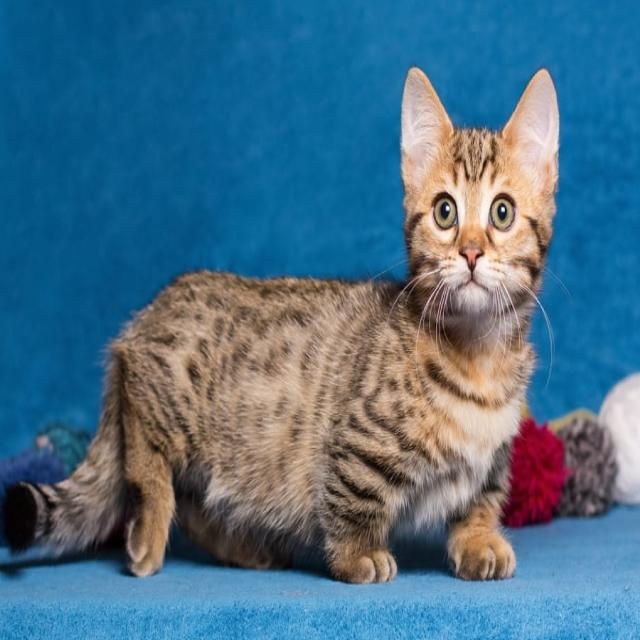Munchkin: (0, 62, 562, 589)
